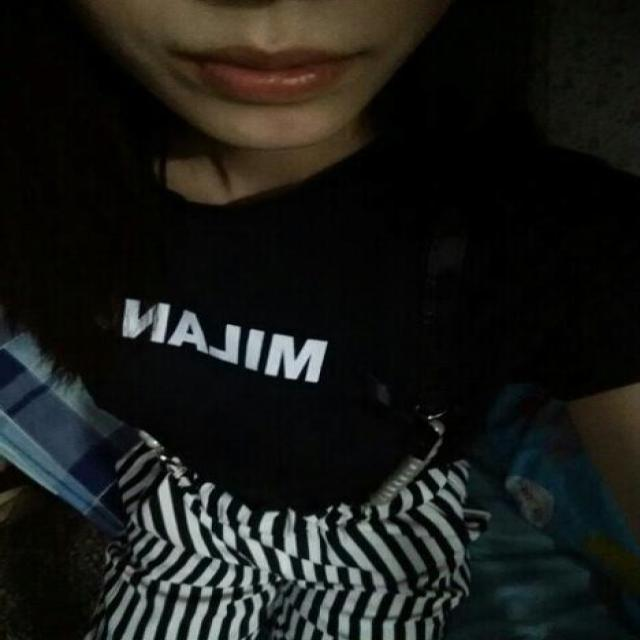short-sleeve-top: (58, 100, 640, 512)
